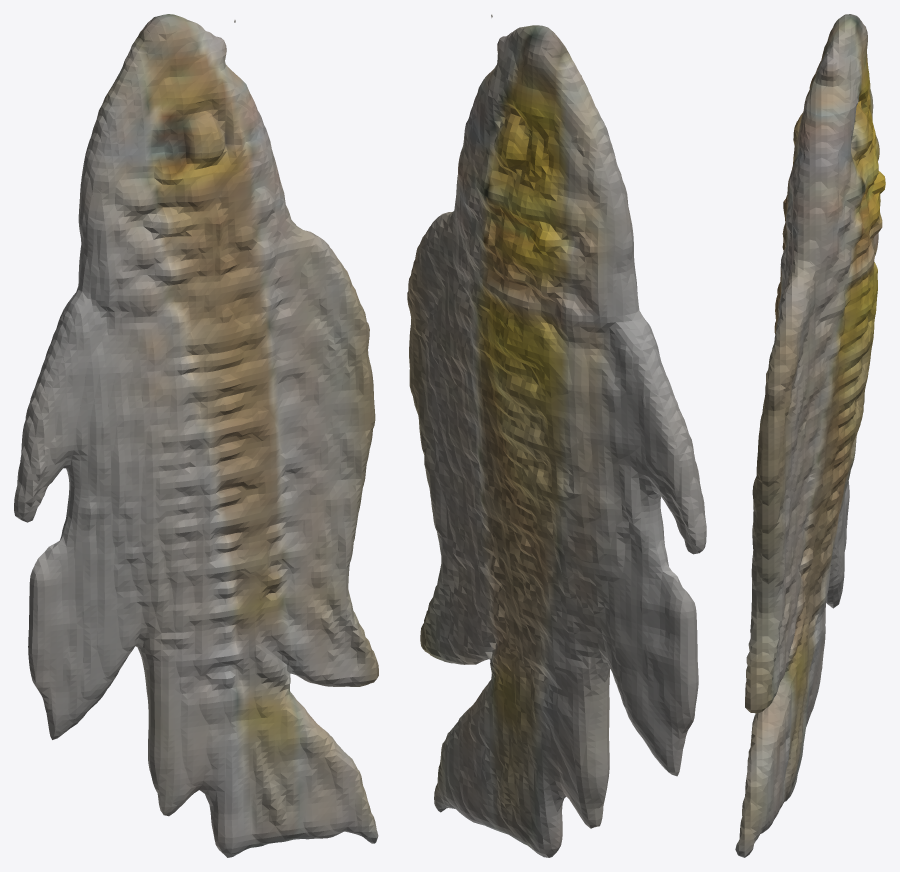
The model's file is apistogramma-bitaeniata.glb.
The picture shows the model from 3 angles, left to right: view 1: azimuth 30°, elevation 25°; view 2: azimuth 150°, elevation 25°; view 3: azimuth 270°, elevation 25°; orthographic projection. The views are drawn at different scales.
Visible parts, largest first — view 1: world; view 2: world; view 3: world.
Boxes of the visible parts, x1,y1,x2,y2 form: world: [14, 14, 378, 857]; world: [407, 14, 706, 857]; world: [735, 14, 885, 857].
Bounding box in the file's own units: 0.3998 × 0.987 × 0.1739.
